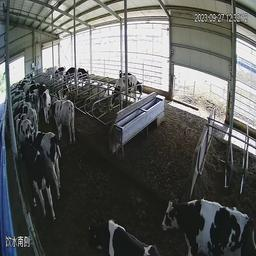cow: (131, 178, 231, 256), (13, 135, 52, 216), (27, 129, 67, 200), (45, 99, 77, 145), (107, 73, 139, 113), (131, 72, 158, 98), (51, 82, 68, 106), (41, 85, 50, 125), (65, 64, 78, 85), (80, 64, 95, 82), (53, 64, 67, 83)
